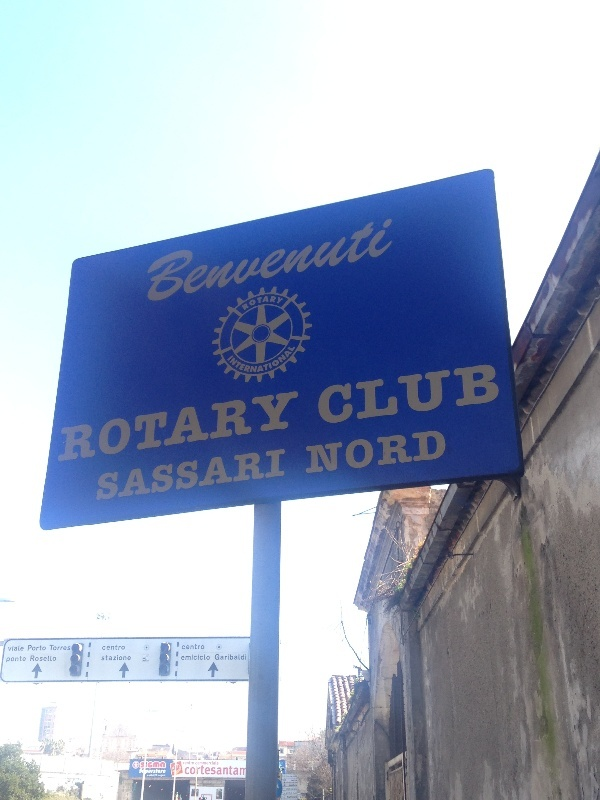text: (161, 215, 176, 308), (177, 215, 192, 308), (193, 215, 208, 308), (209, 215, 224, 308), (225, 215, 240, 308), (241, 215, 256, 308), (257, 215, 272, 308), (273, 215, 288, 308), (289, 215, 304, 308), (305, 215, 320, 308), (321, 215, 336, 308), (337, 215, 352, 308), (353, 215, 368, 308), (369, 215, 384, 308), (147, 215, 160, 308), (65, 386, 80, 466), (81, 386, 96, 466), (97, 386, 112, 466), (113, 386, 128, 466), (129, 386, 144, 466), (145, 386, 160, 466), (161, 386, 176, 466), (177, 386, 192, 466), (193, 386, 208, 466), (209, 386, 224, 466), (225, 386, 240, 466), (241, 386, 256, 466), (257, 386, 272, 466), (273, 386, 288, 466), (321, 358, 336, 431), (337, 358, 352, 431), (353, 358, 368, 431), (369, 358, 384, 431), (385, 358, 400, 431), (401, 358, 416, 431), (417, 358, 432, 431), (433, 358, 448, 431), (449, 358, 464, 431), (465, 358, 480, 431), (481, 358, 496, 431), (113, 445, 128, 507), (129, 445, 144, 507), (145, 445, 160, 507), (161, 445, 176, 507), (177, 445, 192, 507), (193, 445, 208, 507), (209, 445, 224, 507), (225, 445, 240, 507), (241, 445, 256, 507), (257, 445, 272, 507), (289, 386, 300, 466), (98, 445, 112, 507), (273, 445, 287, 507), (385, 215, 394, 308), (305, 427, 320, 479), (321, 427, 336, 479), (337, 427, 352, 479), (353, 427, 368, 479), (369, 427, 384, 479), (385, 427, 400, 479), (401, 427, 416, 479), (417, 427, 432, 479), (433, 427, 448, 479), (241, 345, 256, 378), (257, 345, 272, 378), (273, 345, 288, 378), (497, 358, 503, 431), (241, 288, 256, 315), (257, 288, 272, 315), (228, 345, 240, 378), (273, 288, 285, 315), (60, 386, 64, 466), (316, 358, 320, 431), (289, 345, 295, 378), (209, 765, 224, 777), (225, 765, 239, 777), (113, 654, 128, 662), (193, 653, 208, 661), (225, 653, 240, 661), (198, 765, 208, 777), (50, 644, 64, 652), (33, 655, 48, 662), (145, 762, 160, 769), (33, 644, 46, 652), (113, 644, 126, 652), (146, 769, 160, 776), (181, 653, 192, 661), (193, 644, 205, 651), (17, 655, 27, 663), (102, 644, 112, 652), (102, 654, 112, 662), (7, 655, 16, 663), (182, 644, 192, 651), (17, 644, 25, 652), (216, 653, 224, 661), (185, 767, 192, 776), (9, 644, 16, 652), (49, 655, 57, 662), (198, 761, 208, 766), (209, 761, 219, 766), (65, 644, 71, 652), (241, 653, 247, 661), (196, 762, 208, 766), (183, 761, 192, 766), (241, 767, 246, 776), (193, 767, 197, 776), (161, 762, 166, 769), (139, 768, 144, 775), (161, 769, 166, 776), (28, 644, 32, 652), (129, 654, 132, 662), (141, 762, 144, 769), (209, 653, 211, 661), (193, 761, 195, 766), (31, 655, 32, 662)
